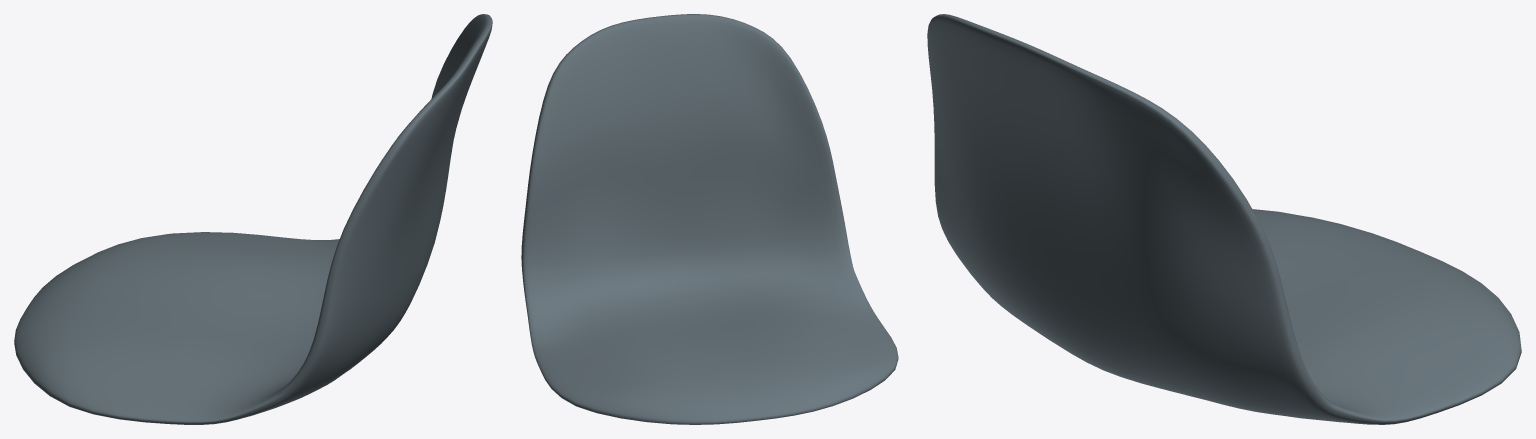
File: tablechair_0202_seat.glb
The picture shows the model from 3 angles, left to right: view 1: azimuth 30°, elevation 25°; view 2: azimuth 150°, elevation 25°; view 3: azimuth 270°, elevation 25°; orthographic projection. The views are drawn at different scales.
Visible parts, largest first — view 1: tablechair_0202_seat; view 2: tablechair_0202_seat; view 3: tablechair_0202_seat.
Part boxes in pixels (x1=…): tablechair_0202_seat: x1=14, y1=14, x2=492, y2=424; tablechair_0202_seat: x1=521, y1=14, x2=898, y2=424; tablechair_0202_seat: x1=927, y1=14, x2=1521, y2=424.
Bounding box in the file's own units: 0.5297 × 0.3776 × 0.5299.
Materials: 1 (1 with a texture image).
